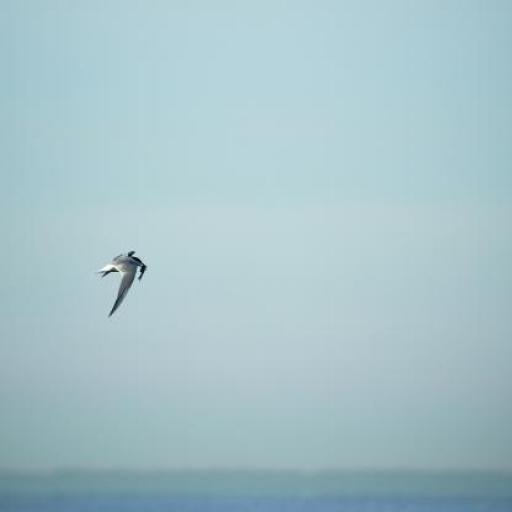bird: (84, 251, 148, 319)
